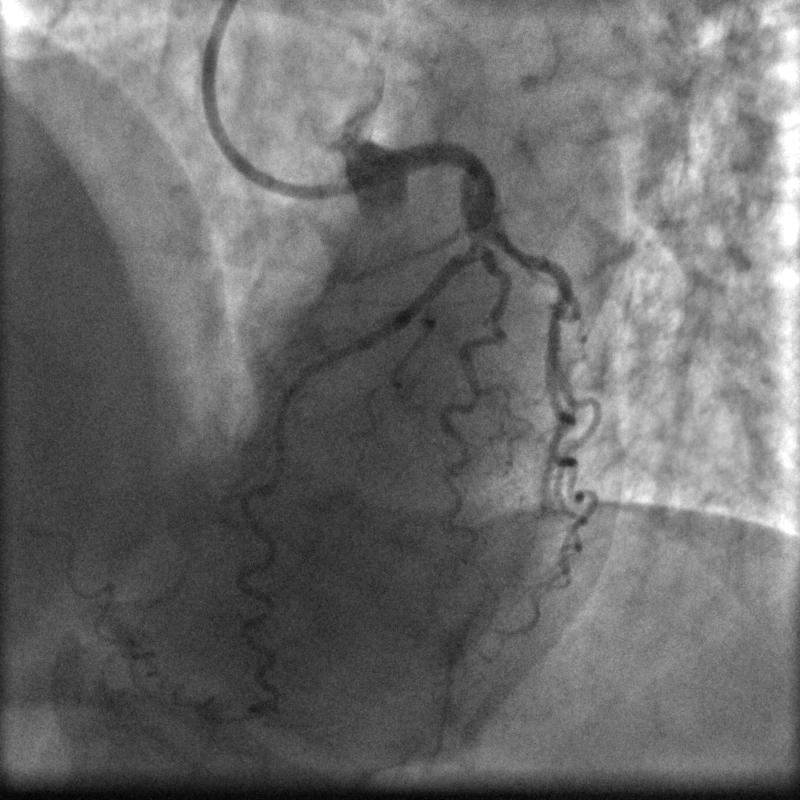Stenosis: (462, 223, 492, 251)
